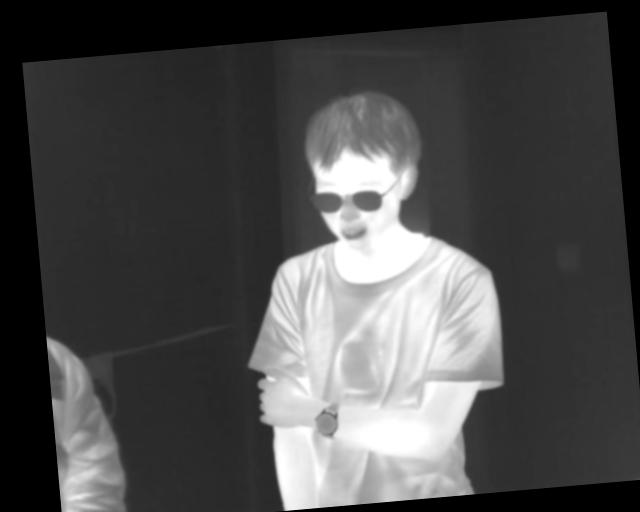face: (297, 85, 430, 252)
